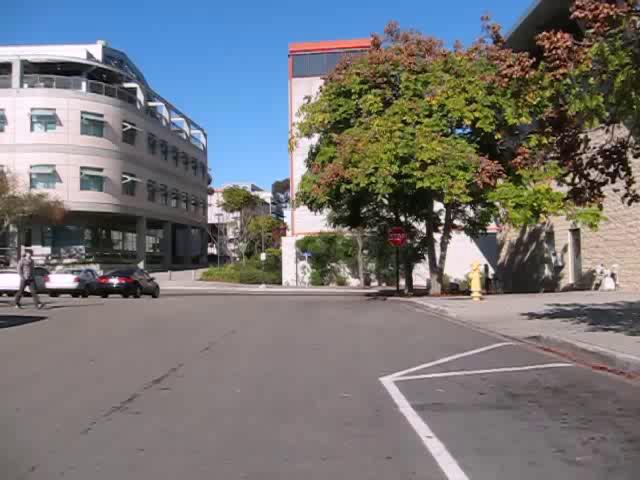stop: (386, 226, 408, 248)
